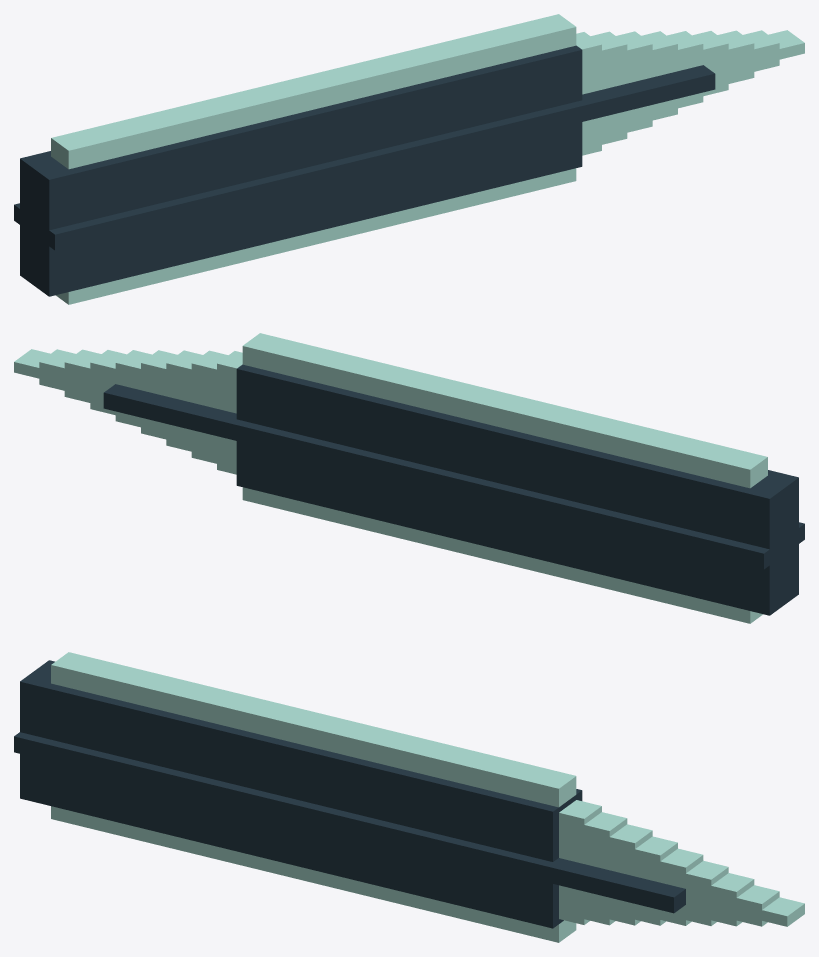
File: bench_flying_sword_4.obj
3 views of the same model, one above another, from view 1: azimuth 30°, elevation 25°; view 2: azimuth 150°, elevation 25°; view 3: azimuth 330°, elevation 25° (orthographic).
Parts seen in each view (by area): view 1: geometry; view 2: geometry; view 3: geometry.
Part boxes in pixels (x1,y1,x2,y2): geometry: (14,14,804,304); geometry: (14,333,804,623); geometry: (14,652,804,942).
Size of the model in its own units: 0.75 by 0.145 by 0.07.
